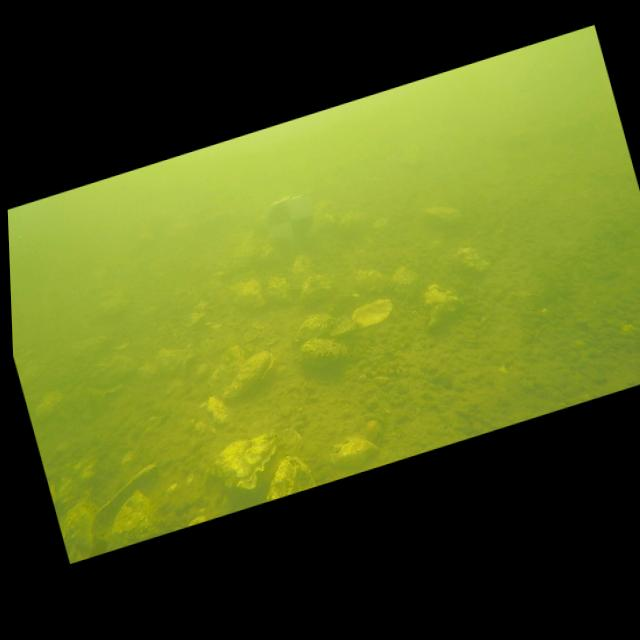Oyster-Closed: (215, 431, 280, 489), (223, 350, 275, 399), (267, 455, 316, 501), (138, 348, 194, 379), (91, 354, 138, 390), (424, 283, 462, 327), (330, 437, 378, 468), (299, 338, 347, 368), (294, 313, 337, 344), (95, 286, 130, 317), (300, 274, 332, 305), (231, 278, 265, 307), (73, 335, 110, 361), (422, 206, 461, 229), (452, 247, 489, 271), (356, 269, 392, 293), (291, 254, 314, 287), (35, 391, 63, 418), (392, 266, 418, 295), (266, 275, 292, 303), (250, 311, 274, 329), (180, 311, 205, 326)
Oyster-Indeterminate: (110, 486, 164, 549), (61, 489, 98, 563), (211, 345, 245, 391)
Oyster-Open: (92, 461, 160, 529), (330, 298, 392, 335)
